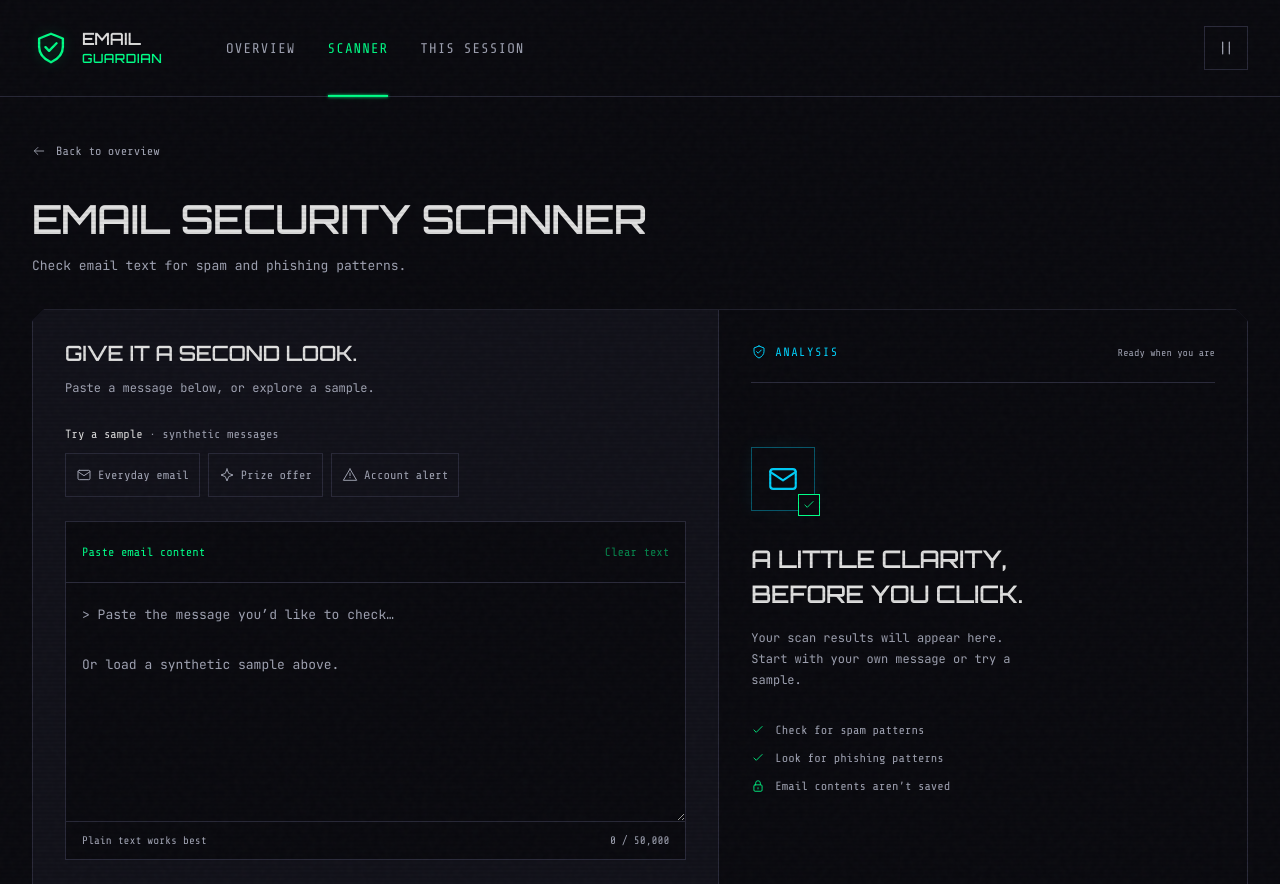
examples are synthetic, editable, and do not send automatically
Click the button "Everyday email": x=132, y=475 [65, 453, 200, 497]
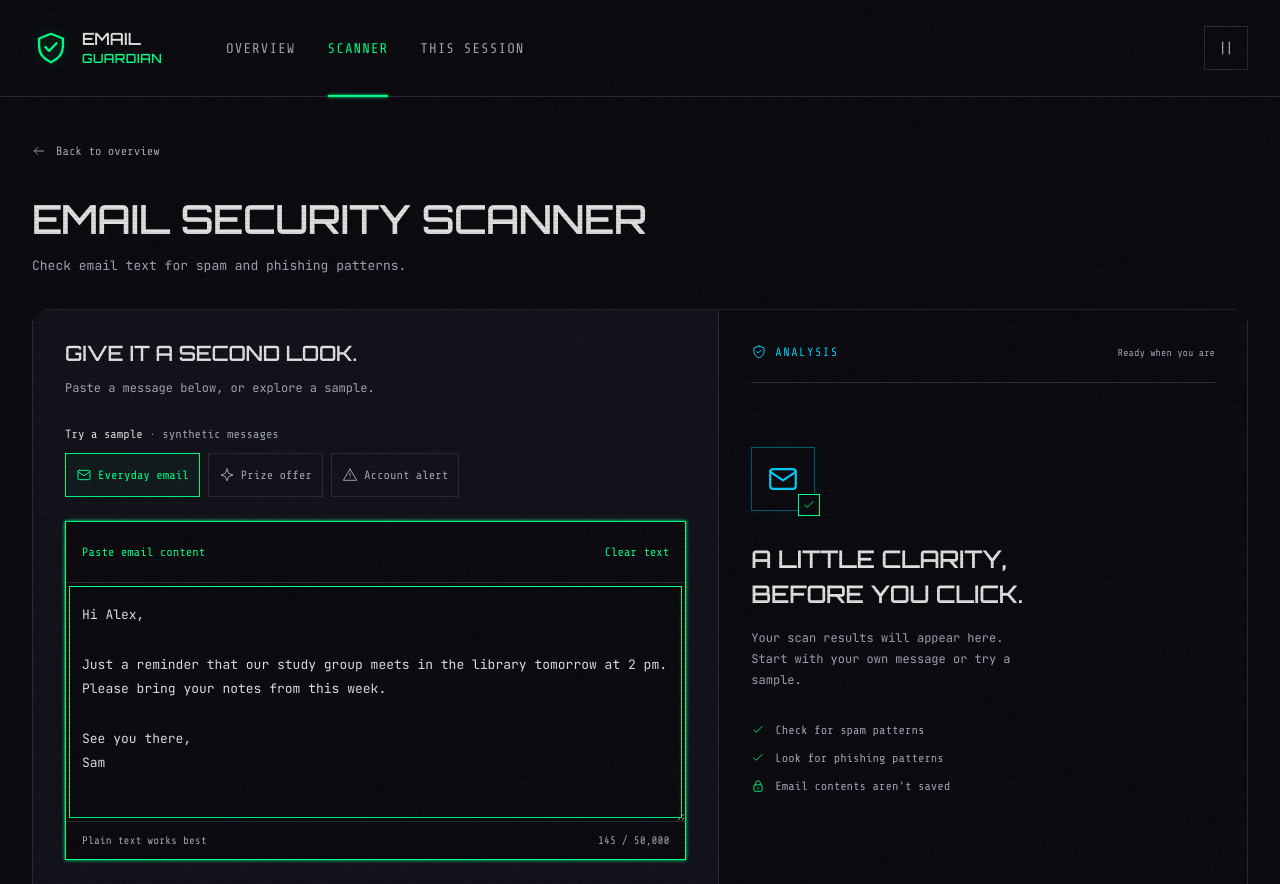
Result: the text named "Email character count" no longer shows "0 /" at [598, 834, 669, 847]
Replace the text in the text box labelled "Paste email content" with "My own message": x=376, y=702 [66, 583, 685, 821]
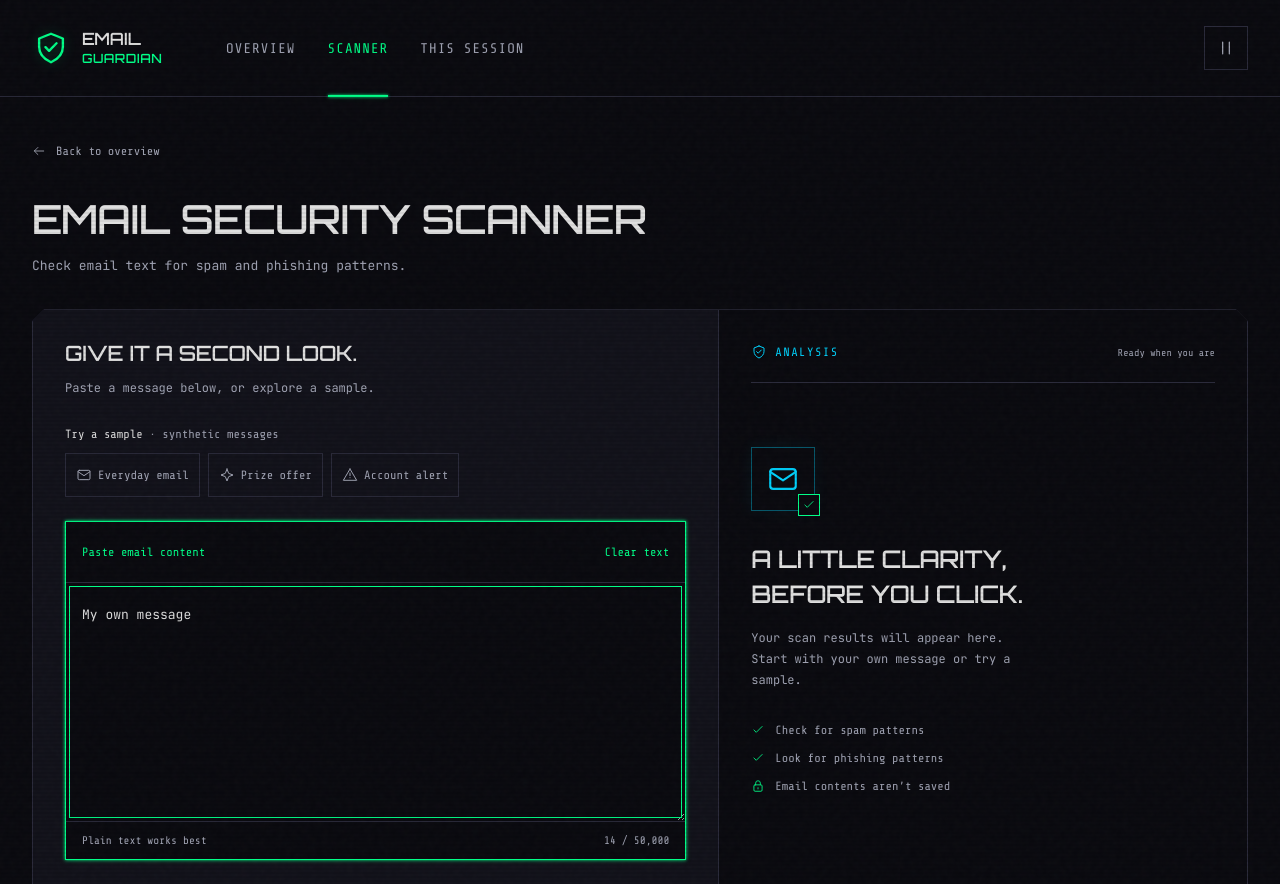
Result: the button "Everyday email" is not pressed at [65, 453, 200, 497]
Click the button "Clear text": x=637, y=552 [604, 530, 669, 574]
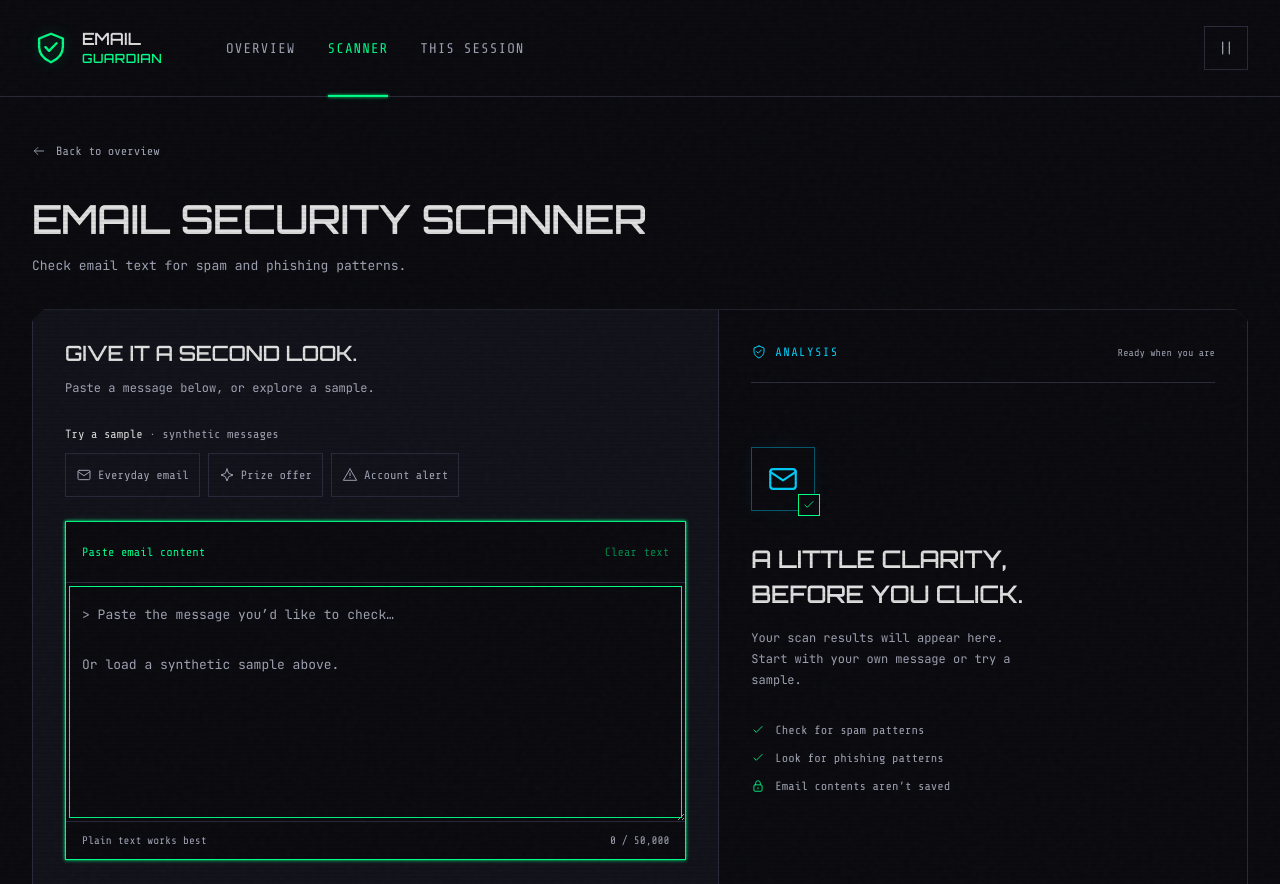
Result: the text box labelled "Paste email content" is empty at [66, 583, 685, 821]
